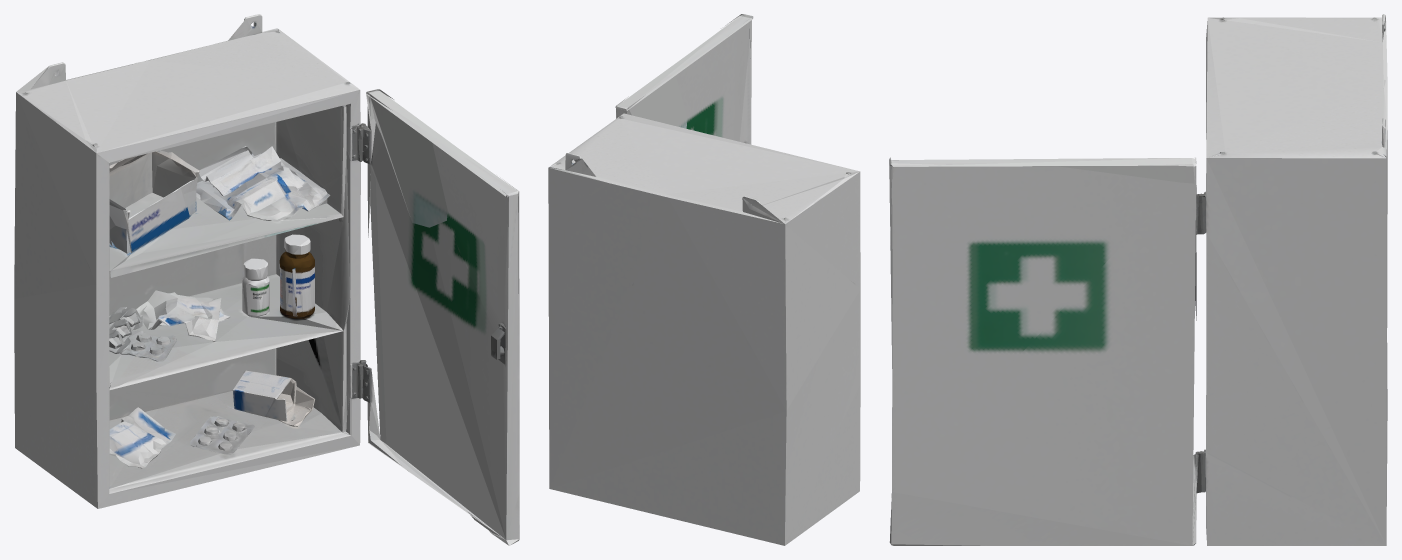
The model's file is FirstAidCabinet.fbx.
The picture shows the model from 3 angles, left to right: view 1: azimuth 30°, elevation 25°; view 2: azimuth 150°, elevation 25°; view 3: azimuth 270°, elevation 25°; orthographic projection. The views are drawn at different scales.
Visible parts, largest first — view 1: output_unwrapped; view 2: output_unwrapped; view 3: output_unwrapped.
Part boxes in pixels (<box>): output_unwrapped: <box>14,14,519,545</box>; output_unwrapped: <box>548,14,860,545</box>; output_unwrapped: <box>889,14,1387,545</box>.
Size of the model in its own units: 134 by 174 by 190.
1 material, 1 textured.
